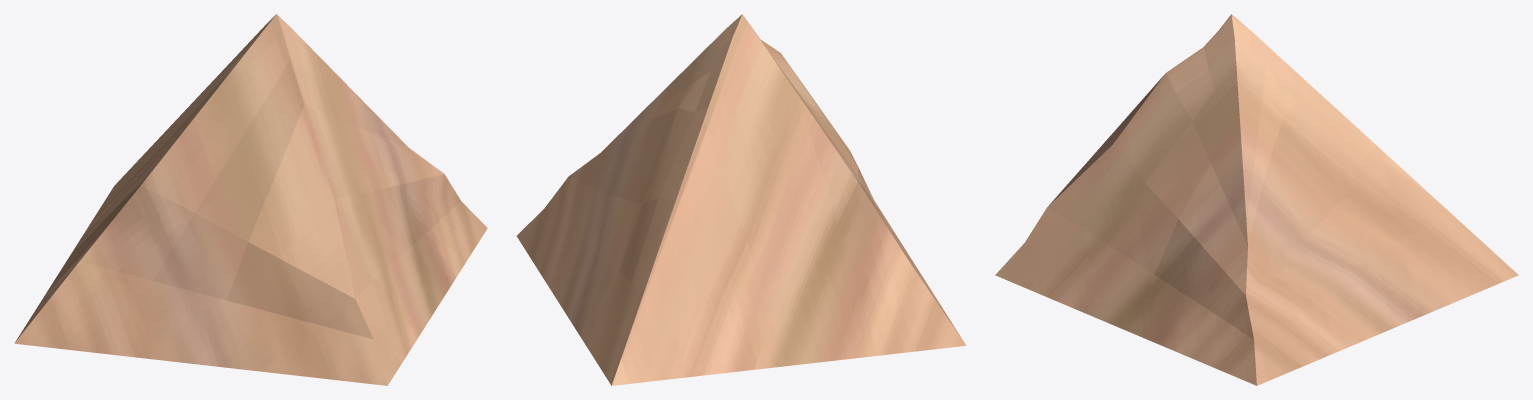
The picture shows the model from 3 angles, left to right: view 1: azimuth 30°, elevation 25°; view 2: azimuth 150°, elevation 25°; view 3: azimuth 270°, elevation 25°; orthographic projection. The views are drawn at different scales.
Parts seen in each view (by area): view 1: Cone; view 2: Cone; view 3: Cone.
Boxes of the visible parts, x1,y1,x2,y2 form: Cone: [14, 14, 487, 385]; Cone: [516, 14, 966, 385]; Cone: [995, 14, 1518, 385].
Size of the model in its own units: 1.71 by 0.9623 by 1.71.
1 material, 1 textured.
